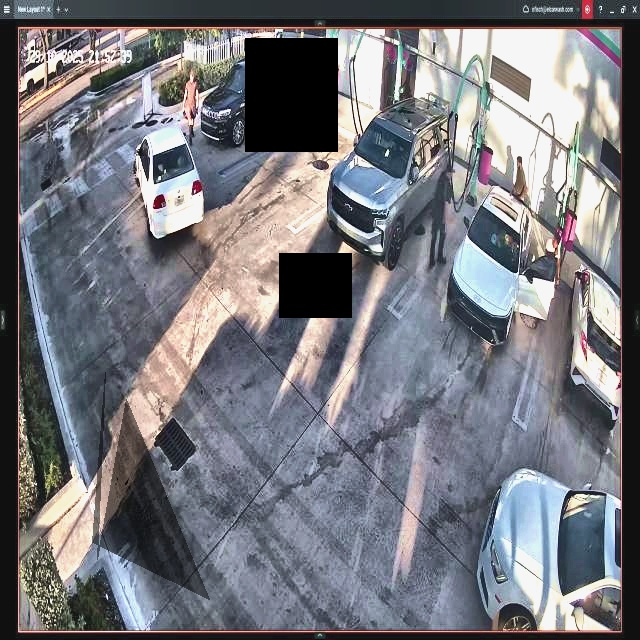Car: (326, 97, 454, 267), (451, 181, 555, 345), (138, 123, 204, 237)
